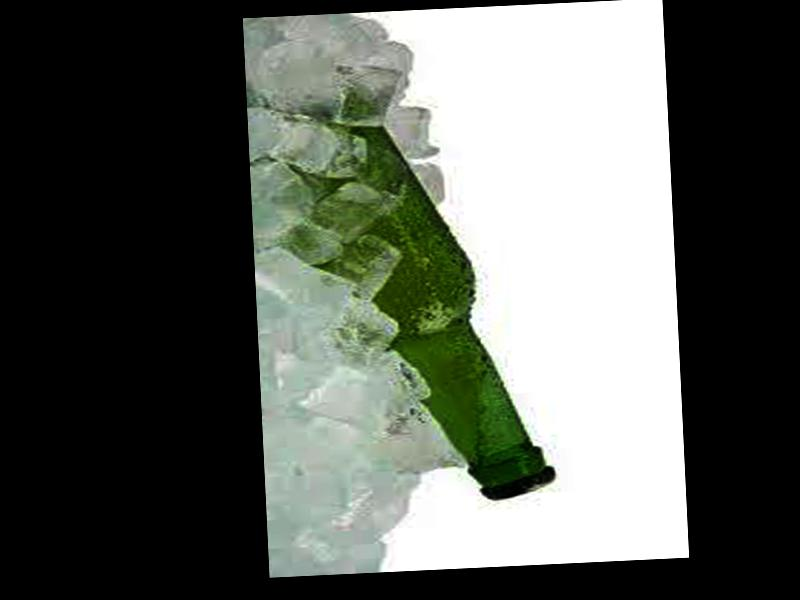Beer: (327, 89, 552, 511)
